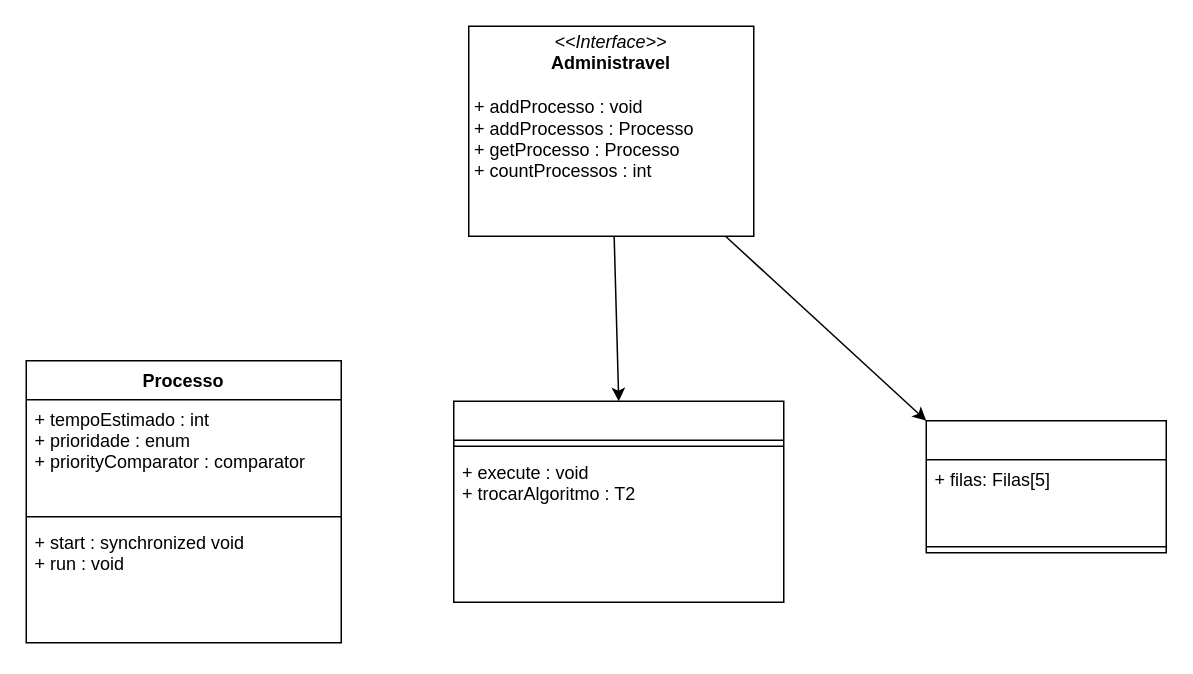
This 1193x674 diagram has some shape labels left out. Here are the shapes that lost their labels. From the top down, the box of each, then its label:
(452, 400, 784, 602): (Abstract) Fila : Administravel
(925, 419, 1166, 553): CPU : Administravel
